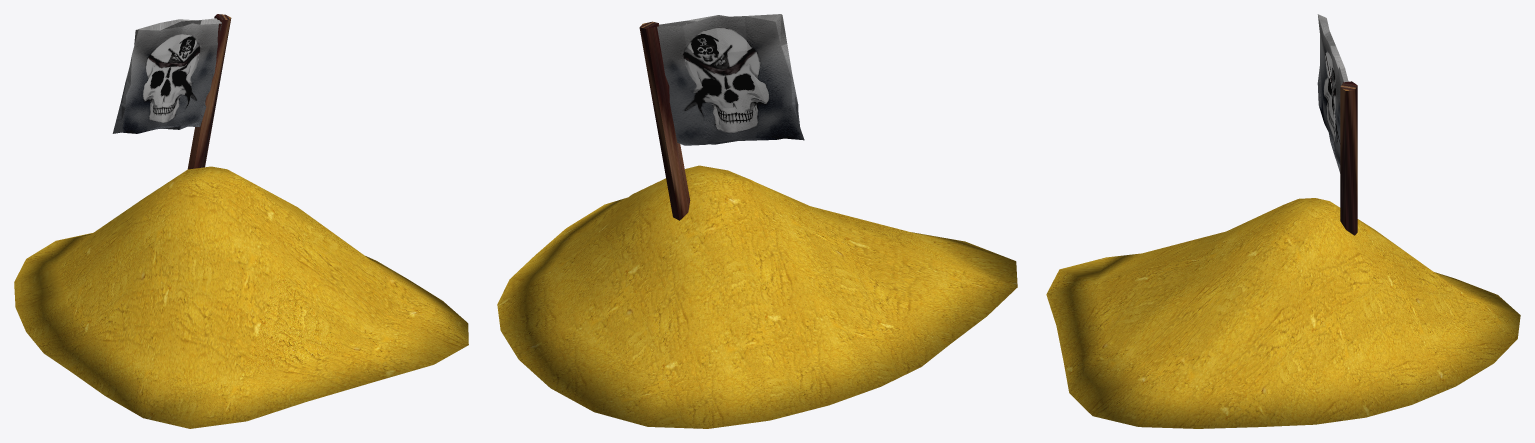
File: EmptyIsland.fbx
3 renders of one model, left to right at view 1: azimuth 30°, elevation 25°; view 2: azimuth 150°, elevation 25°; view 3: azimuth 270°, elevation 25°, orthographic. The views are drawn at different scales.
Visible parts, largest first — view 1: Desert Island.003, Pirate skull flag, watercolour and gouache.001, Cylinder; view 2: Desert Island.003, Pirate skull flag, watercolour and gouache.001, Cylinder; view 3: Desert Island.003, Cylinder, Pirate skull flag, watercolour and gouache.001.
Part boxes in pixels (bbox=[...]): Desert Island.003: bbox=[14, 166, 468, 428]; Pirate skull flag, watercolour and gouache.001: bbox=[112, 18, 221, 133]; Cylinder: bbox=[187, 14, 231, 169]; Desert Island.003: bbox=[497, 165, 1017, 428]; Pirate skull flag, watercolour and gouache.001: bbox=[657, 14, 804, 145]; Cylinder: bbox=[639, 21, 690, 220]; Desert Island.003: bbox=[1046, 198, 1520, 428]; Cylinder: bbox=[1340, 81, 1357, 235]; Pirate skull flag, watercolour and gouache.001: bbox=[1317, 14, 1348, 173].
Size of the model in its own units: 59.72 by 46.51 by 68.17.
